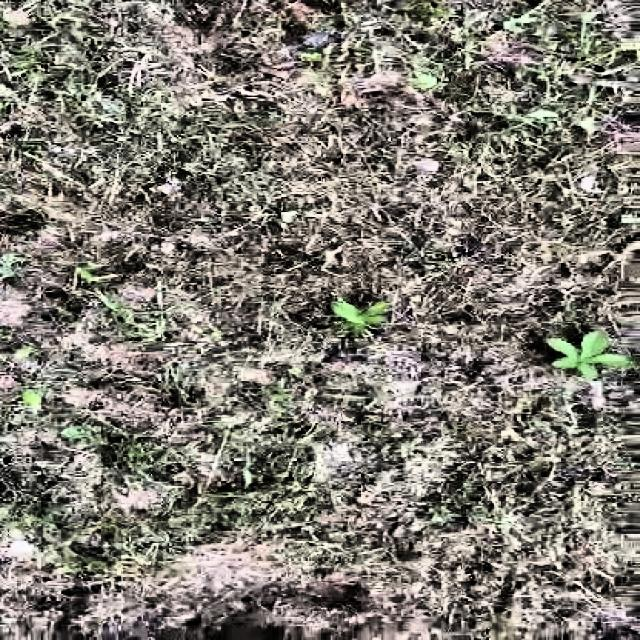Weeds: (544, 327, 640, 389)
